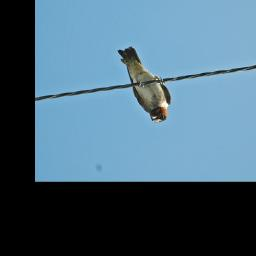Swallow: (116, 46, 172, 124)
